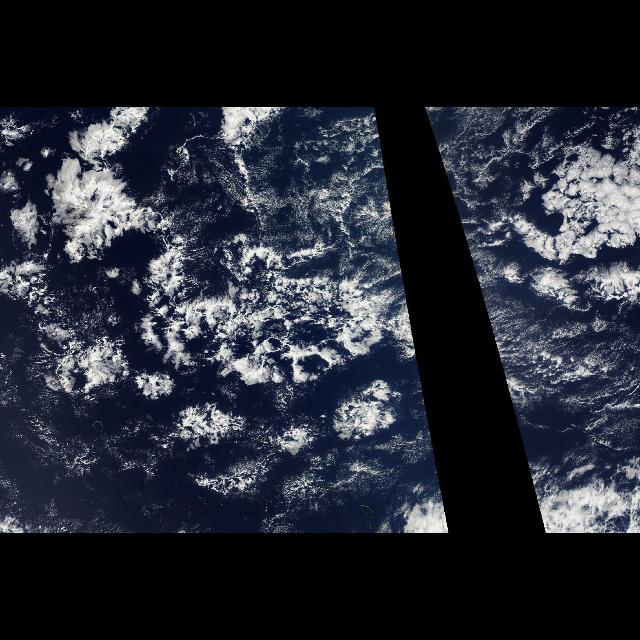Fish: (114, 232, 400, 396)
Flower: (11, 110, 412, 488)
Sugar: (424, 107, 640, 423), (250, 107, 430, 423)
